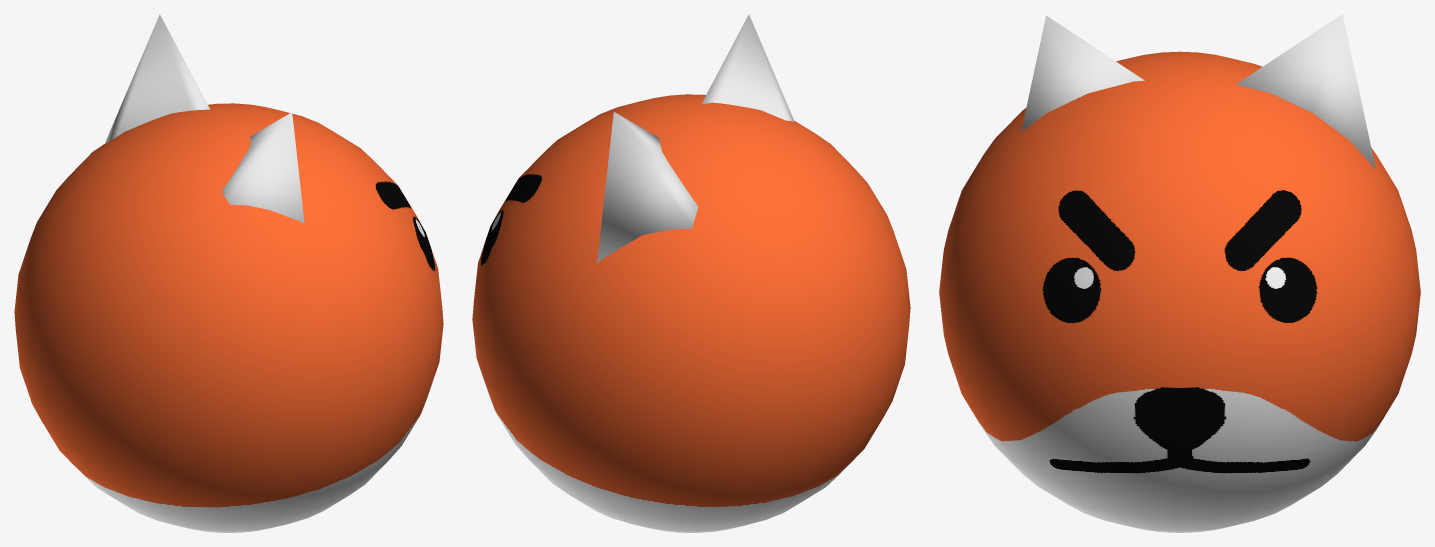
The model's file is Fox.fbx.
3 views of the same model, side by side, from view 1: azimuth 30°, elevation 25°; view 2: azimuth 150°, elevation 25°; view 3: azimuth 270°, elevation 25° (orthographic). The views are drawn at different scales.
Visible parts, largest first — view 1: Sphere, Cube, Cube.001; view 2: Sphere, Cube, Cube.001; view 3: Sphere, Cube, Cube.001.
Boxes of the visible parts, box(x1,y1,x2,y2) form: Sphere: box(14, 103, 443, 532); Cube: box(105, 14, 210, 143); Cube.001: box(221, 112, 304, 223); Sphere: box(472, 94, 910, 532); Cube: box(597, 112, 698, 263); Cube.001: box(701, 14, 794, 121); Sphere: box(939, 51, 1420, 532); Cube: box(1236, 14, 1375, 169); Cube.001: box(1021, 15, 1144, 132).
Size of the model in its own units: 200 by 228 by 200.
Materials: 1 (1 with a texture image).
